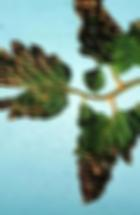Tomato Septoria leaf spot: (65, 99, 139, 202), (0, 28, 73, 131), (63, 0, 136, 78)
